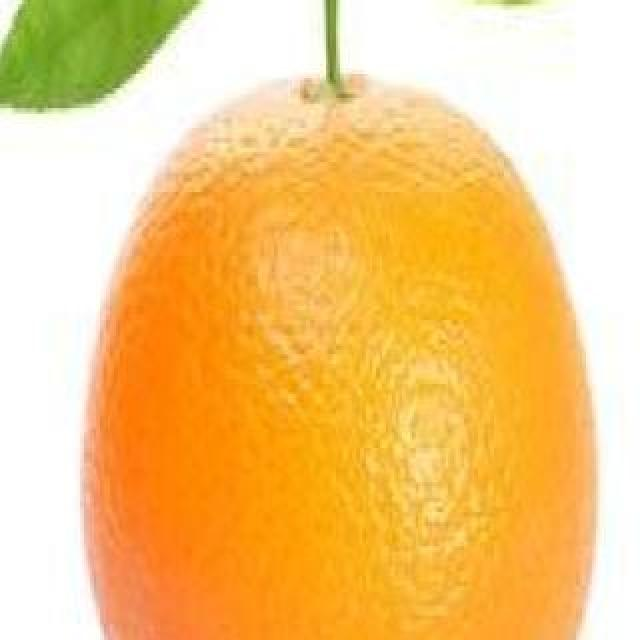orange: (78, 70, 600, 640)
